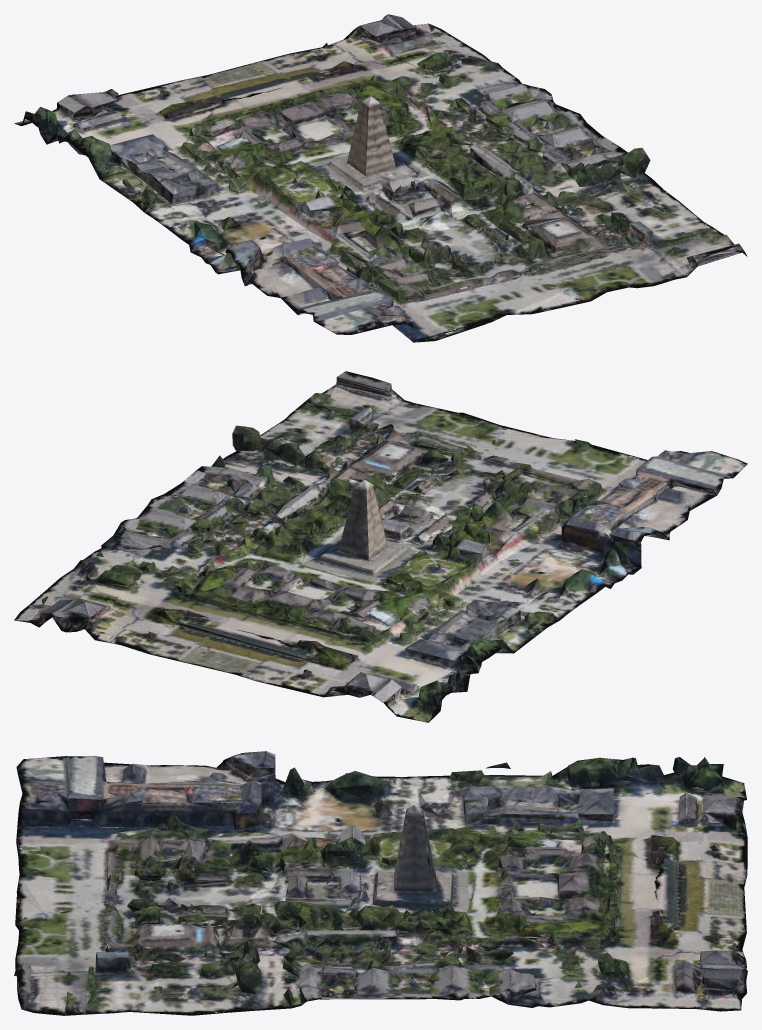
3 views of the same model, one above another, from view 1: azimuth 30°, elevation 25°; view 2: azimuth 150°, elevation 25°; view 3: azimuth 270°, elevation 25° (orthographic). The views are drawn at different scales.
Size of the model in its own units: 342 by 78.99 by 455.
1 material, 1 textured.
